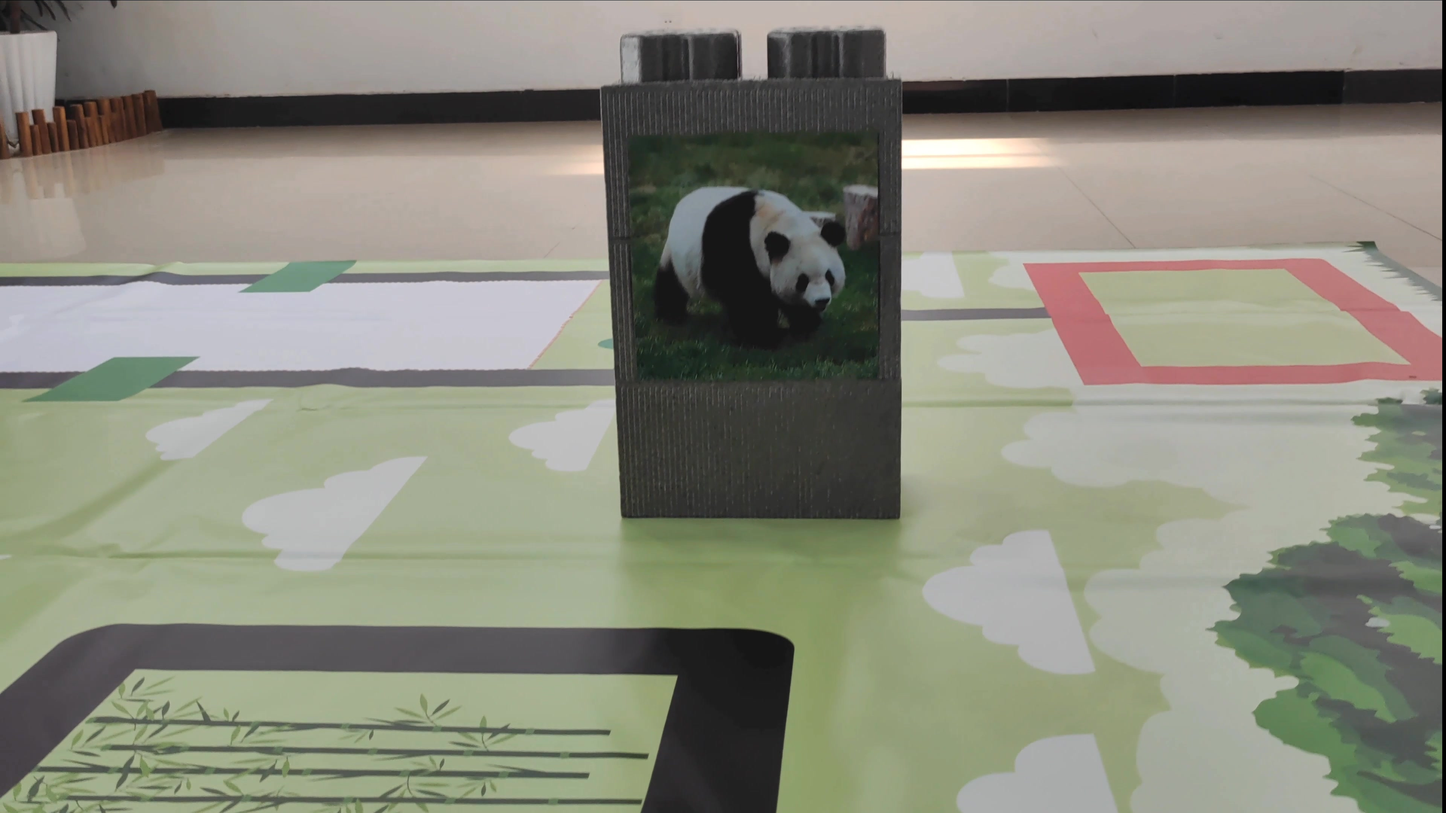panda: (647, 169, 877, 349)
